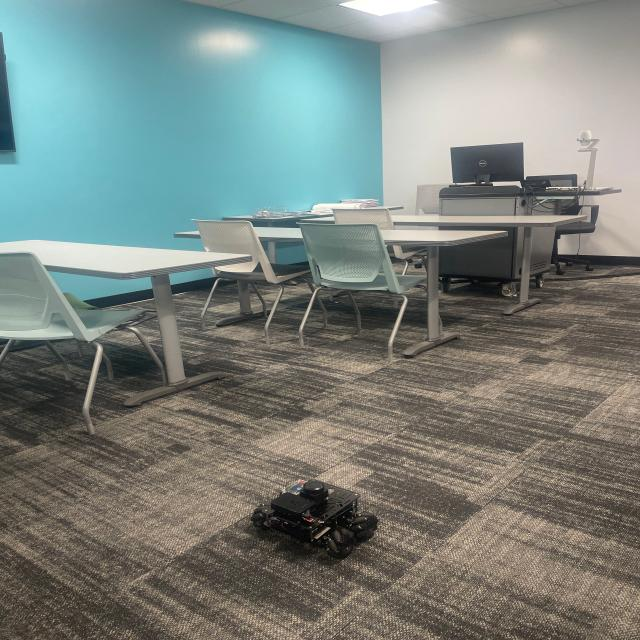ArduinoCar3: (239, 476, 387, 559)
